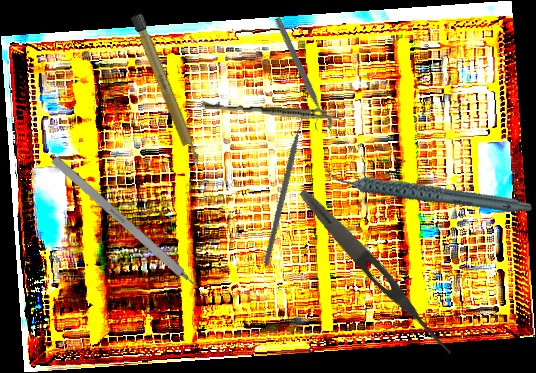Chopper: (223, 109, 356, 267)
Dressing Forceps: (294, 185, 459, 359)
Fixation Ring: (265, 15, 335, 135)
Handpiece: (322, 125, 535, 255)
Hook Surgical: (50, 154, 216, 306)
Scalpel Handle: (129, 12, 203, 169)
Tissue Forceps: (201, 101, 343, 121)
